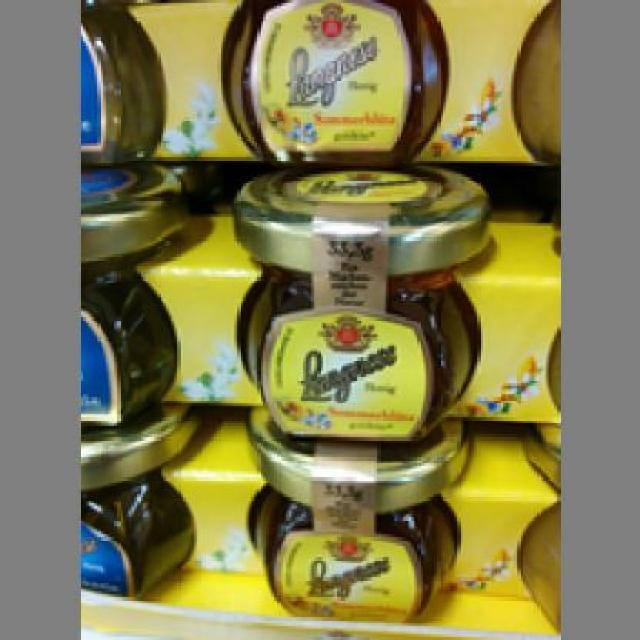Honey: (226, 168, 494, 438), (246, 412, 472, 618), (220, 0, 457, 166)
